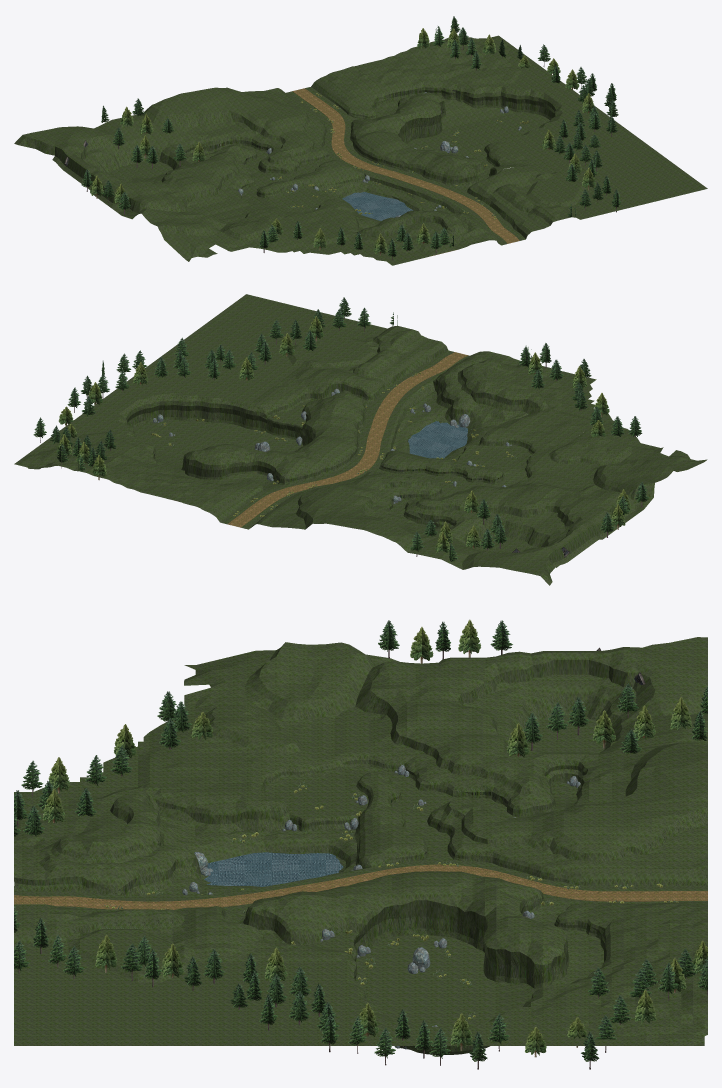
The model's file is NortiaHighway2.obj.
The picture shows the model from 3 angles, top to bottom: view 1: azimuth 30°, elevation 25°; view 2: azimuth 150°, elevation 25°; view 3: azimuth 270°, elevation 25°; orthographic projection. The views are drawn at different scales.
Visible parts, largest first — view 1: Object.020, Object.018, Object.023, Object.017, Object.000, Object.021; view 2: Object.020, Object.018, Object.023, Object.017, Object.021, Object.000; view 3: Object.020, Object.018, Object.023, Object.017, Object.021, Object.000.
Part boxes in pixels (x1,y1,x2,y2): Object.020: [14, 35, 707, 265]; Object.018: [81, 16, 620, 260]; Object.023: [292, 88, 519, 243]; Object.017: [342, 192, 413, 221]; Object.000: [277, 93, 529, 219]; Object.021: [238, 92, 521, 217]; Object.020: [14, 294, 707, 585]; Object.018: [33, 297, 649, 561]; Object.023: [227, 352, 468, 527]; Object.017: [408, 421, 467, 458]; Object.021: [153, 388, 511, 503]; Object.000: [151, 372, 517, 516]; Object.020: [14, 637, 707, 1054]; Object.018: [14, 619, 707, 1069]; Object.023: [14, 864, 707, 909]; Object.017: [204, 852, 343, 886]; Object.021: [182, 765, 580, 1049]; Object.000: [104, 780, 678, 1021].
Bounding box in the file's own units: 326 × 31.97 × 234.
Materials: 11 (11 with a texture image).
